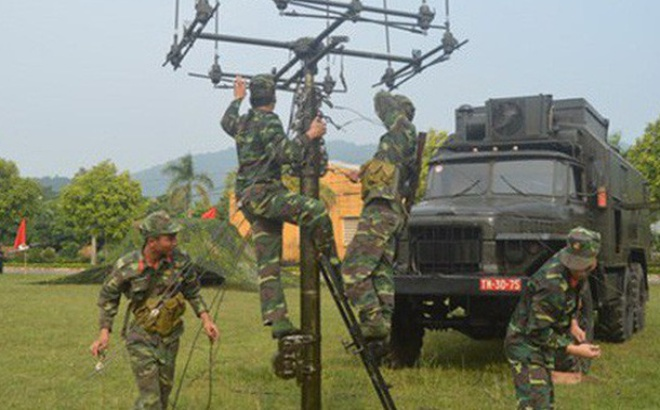plate: (481, 278, 522, 291)
